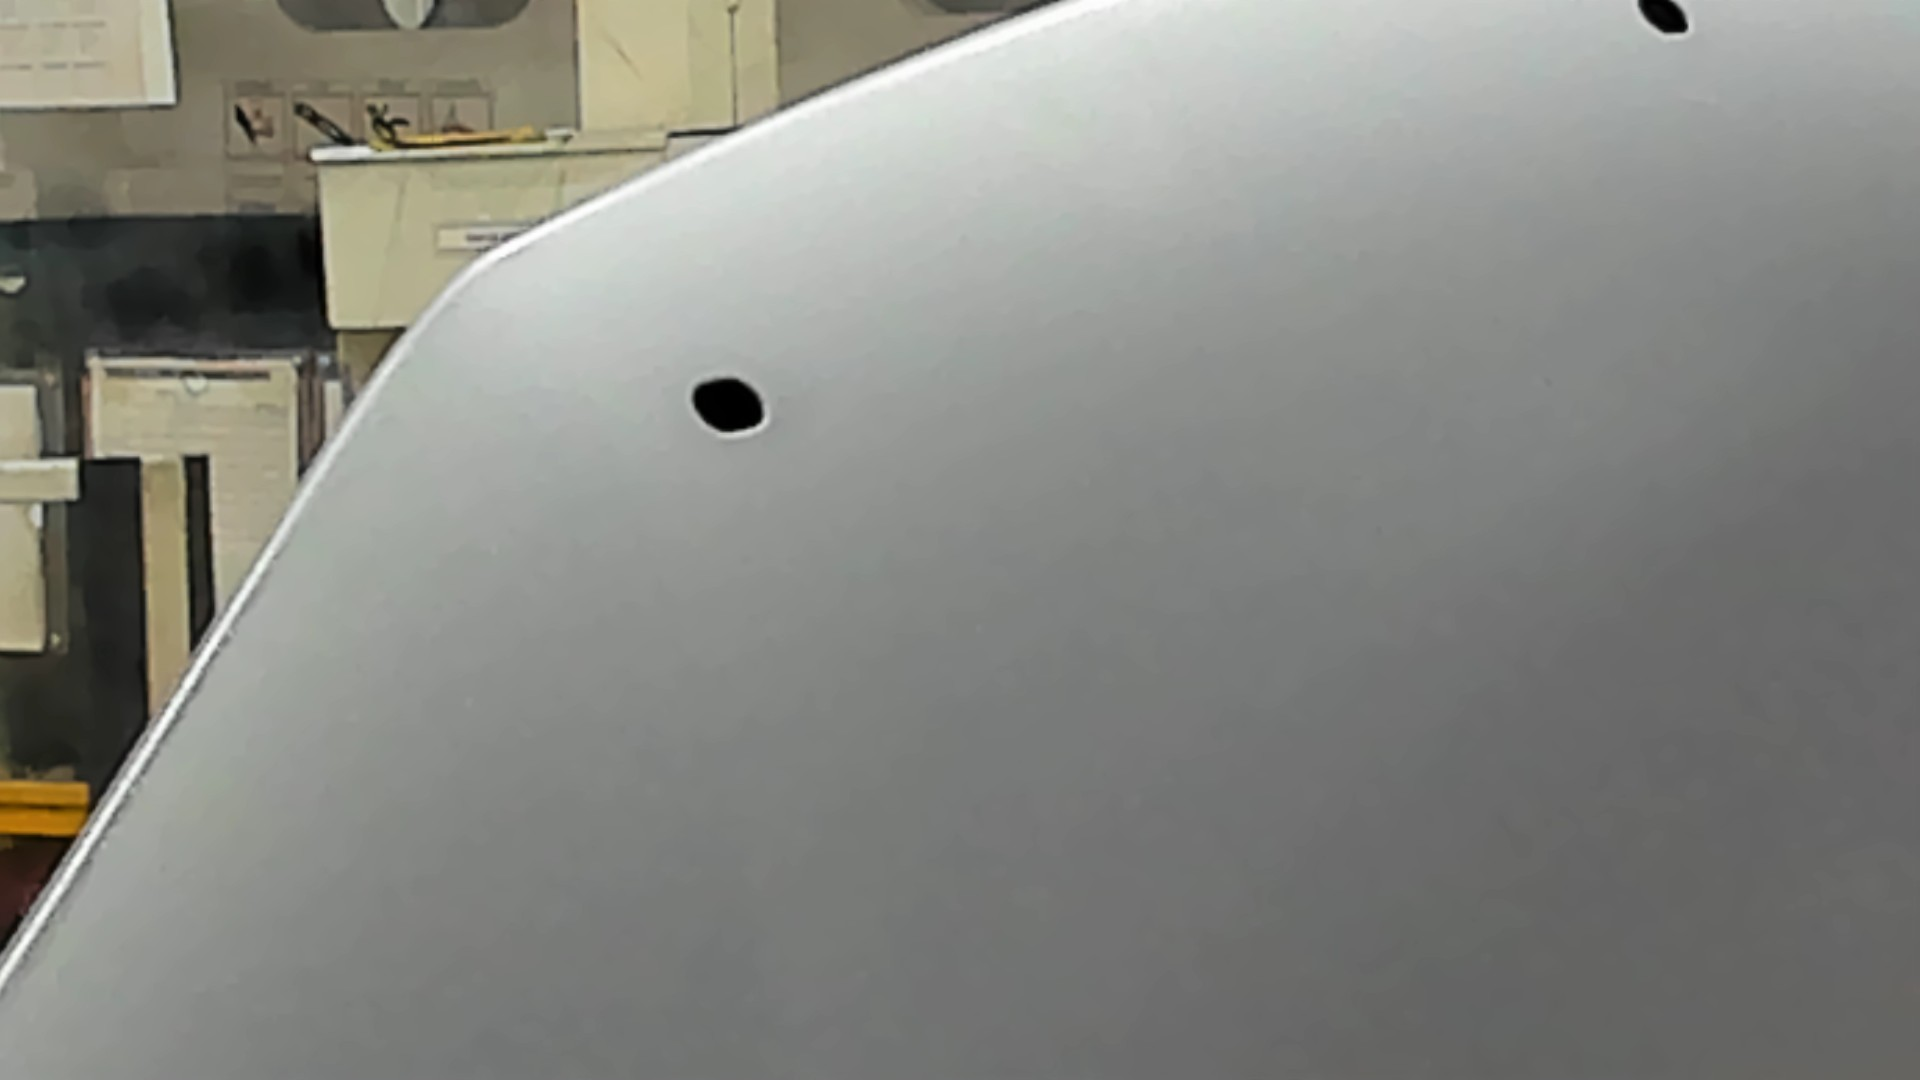Agujero: (688, 375, 771, 439), (1633, 1, 1692, 37)
